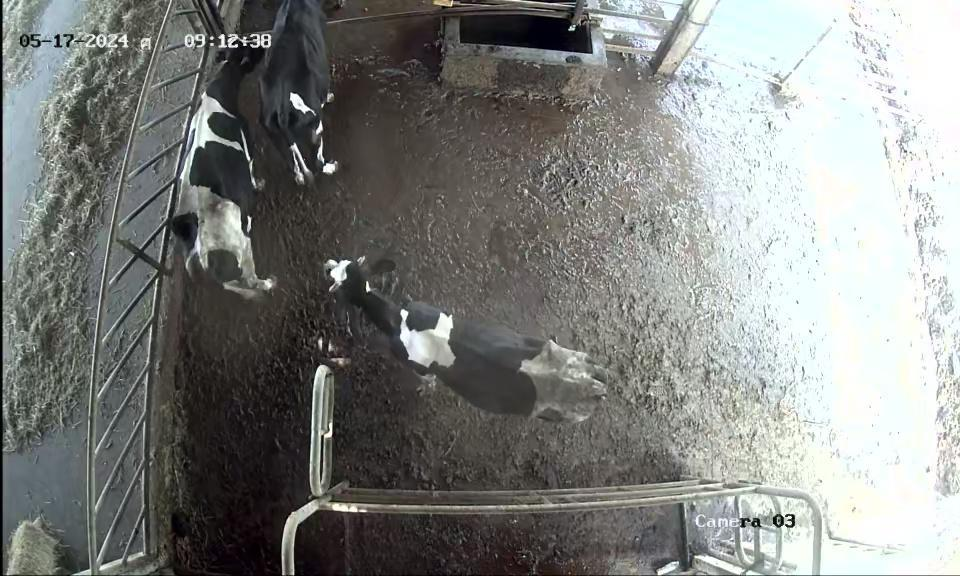stand: (317, 240, 626, 438), (169, 28, 279, 310), (267, 0, 368, 189)
